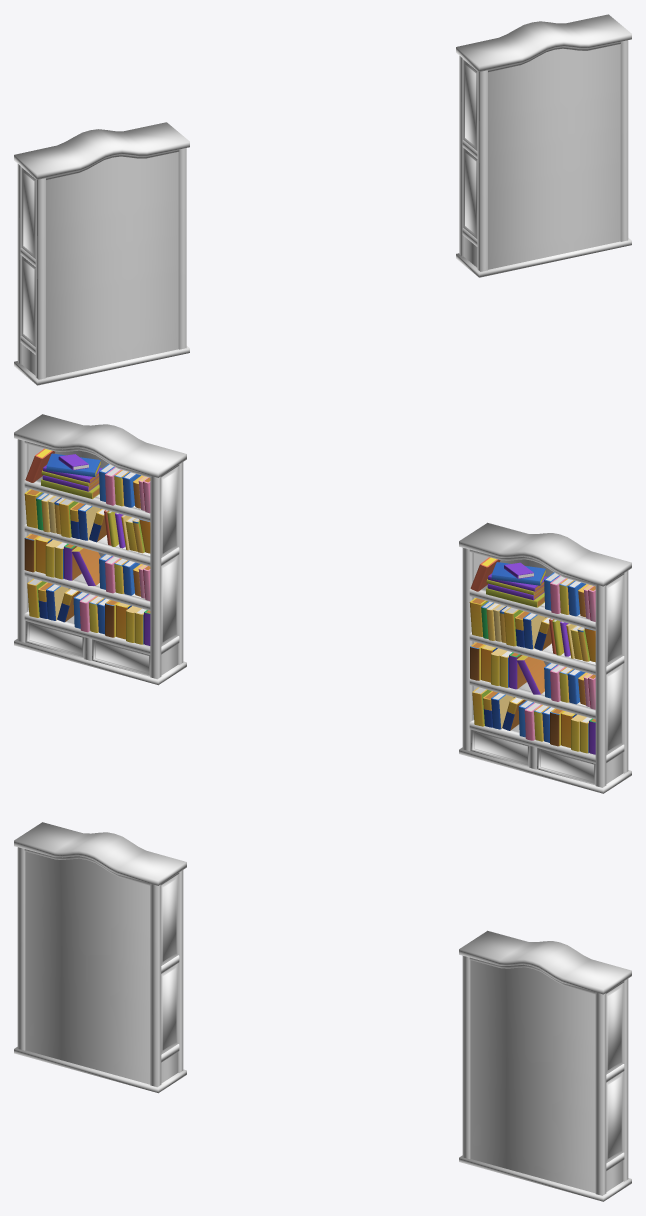
Rendered from Living_Room_Bookshelfs.fbx.
3 renders of one model, top to bottom at view 1: azimuth 30°, elevation 25°; view 2: azimuth 150°, elevation 25°; view 3: azimuth 330°, elevation 25°, orthographic.
Parts seen in each view (by area): view 1: Living_Room_Bookshelf; view 2: Living_Room_Bookshelf; view 3: Living_Room_Bookshelf.
Boxes of the visible parts, box(x1,y1,x2,y2) form: Living_Room_Bookshelf: box(14, 14, 631, 385); Living_Room_Bookshelf: box(14, 414, 631, 793); Living_Room_Bookshelf: box(14, 822, 631, 1201).
Size of the model in its own units: 3003 by 1064 by 268.
